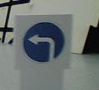left: (23, 22, 66, 62)
